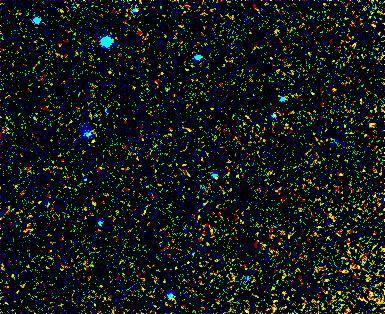star: (357, 109, 385, 139)
